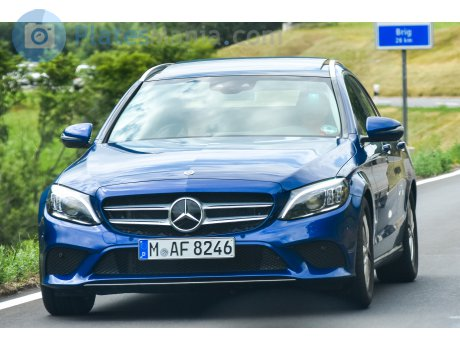License Plates: (151, 237, 234, 256)
